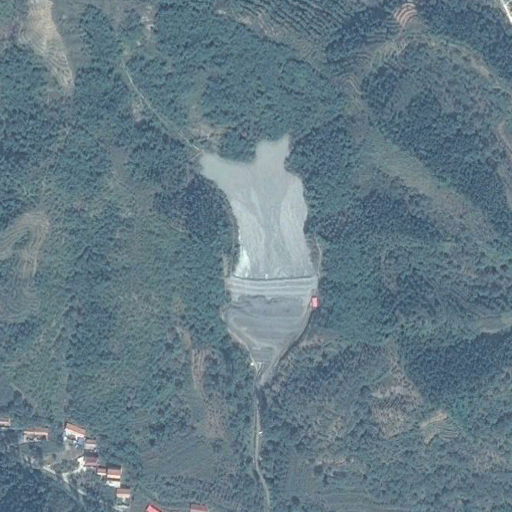tp: (199, 135, 318, 370)
